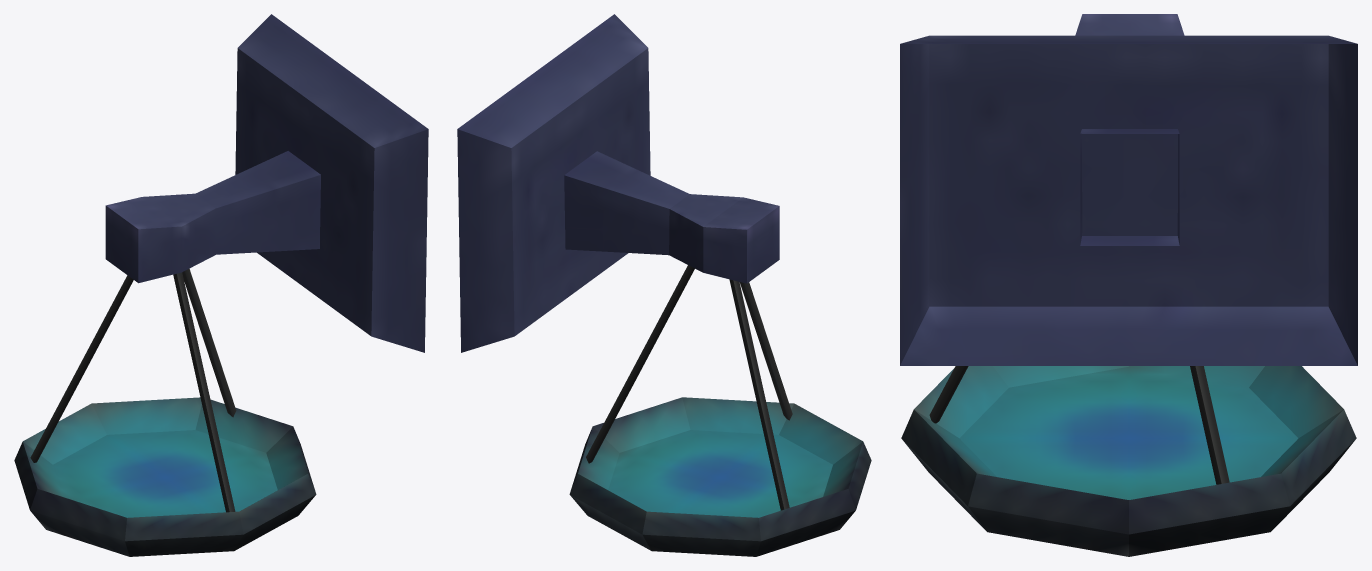
Rendered from jfdx_dj1.FBX.
The picture shows the model from 3 angles, left to right: view 1: azimuth 30°, elevation 25°; view 2: azimuth 150°, elevation 25°; view 3: azimuth 270°, elevation 25°; orthographic projection. The views are drawn at different scales.
Visible parts, largest first — view 1: jfdx_dj1; view 2: jfdx_dj1; view 3: jfdx_dj1.
Part boxes in pixels (x1,y1,x2,y2): jfdx_dj1: [14, 14, 428, 556]; jfdx_dj1: [457, 14, 871, 556]; jfdx_dj1: [900, 14, 1357, 556].
Size of the model in its own units: 1.33 by 1.53 by 1.13.
